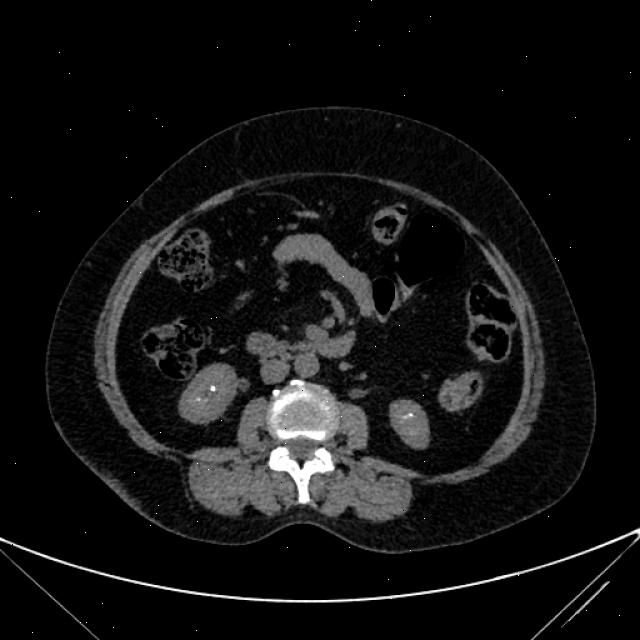kidneystone: (210, 385, 216, 392)
